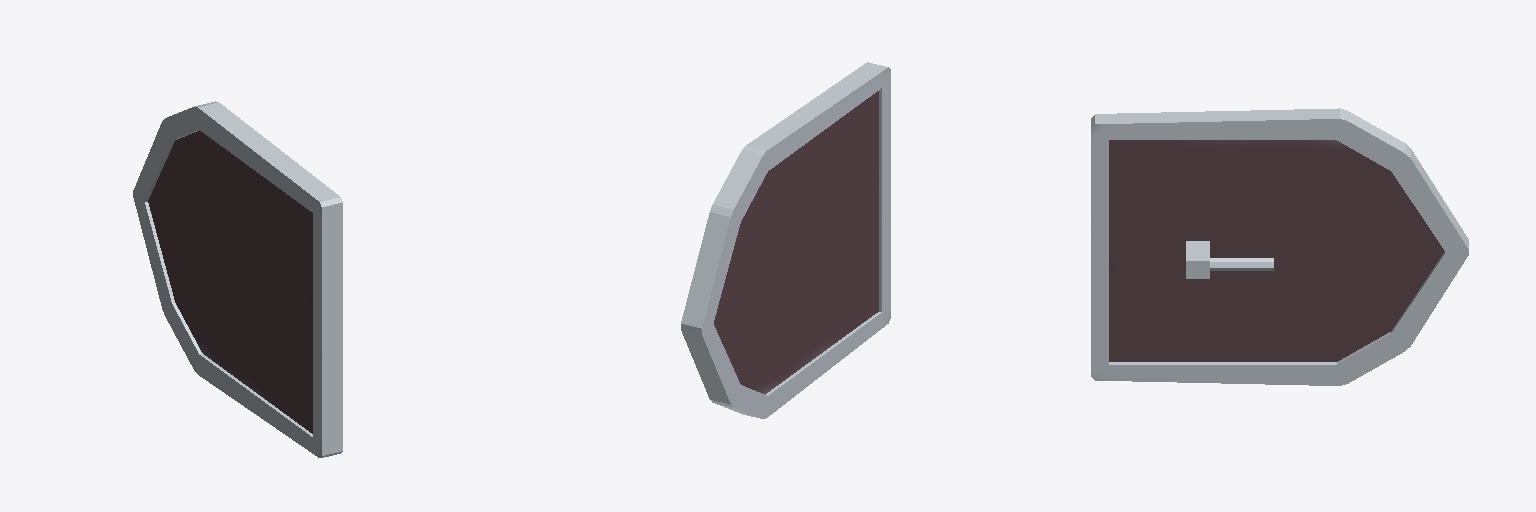
3 views of the same model, side by side, from view 1: azimuth 30°, elevation 25°; view 2: azimuth 150°, elevation 25°; view 3: azimuth 270°, elevation 25° (orthographic).
Visible parts, largest first — view 1: Cube; view 2: Cube; view 3: Cube.
Part boxes in pixels (bbox=[...]): Cube: bbox=[133, 101, 342, 457]; Cube: bbox=[681, 62, 890, 418]; Cube: bbox=[1091, 108, 1468, 385].
Bounding box in the file's own units: 0.1576 × 0.7086 × 0.9058.
1 materials, 1 textured.